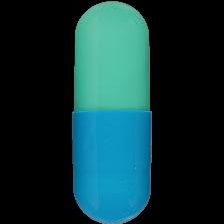64725-7544: (0, 0, 224, 224)
